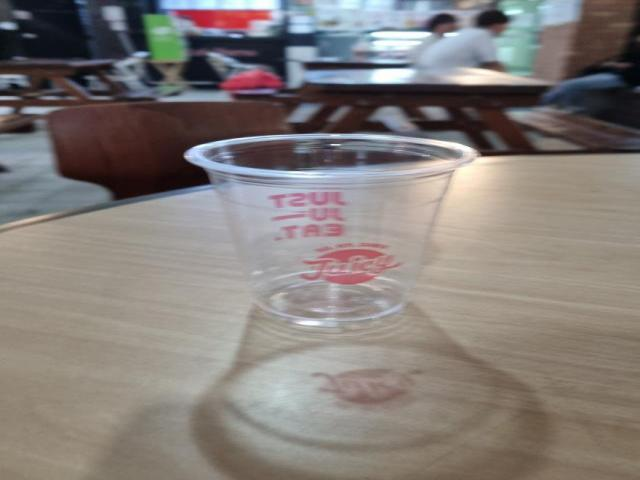cup: (178, 127, 488, 331)
